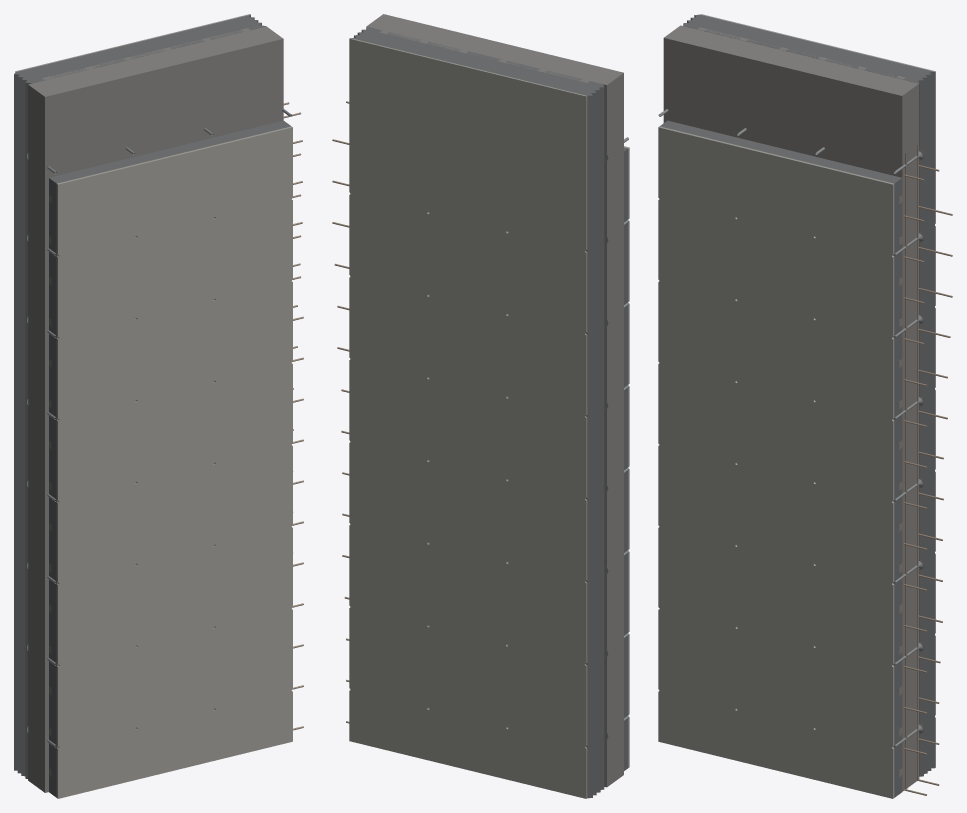
The model's file is mbk-perete-v4.glb.
3 renders of one model, left to right at view 1: azimuth 30°, elevation 25°; view 2: azimuth 150°, elevation 25°; view 3: azimuth 330°, elevation 25°, orthographic.
Visible parts, largest first — view 1: Perete; view 2: Perete; view 3: Perete.
Part boxes in pixels (x1,y1,x2,y2): Perete: (14, 14, 303, 798); Perete: (332, 14, 629, 798); Perete: (658, 14, 952, 798).
Size of the model in its own units: 1.4 by 3.4 by 0.38.
